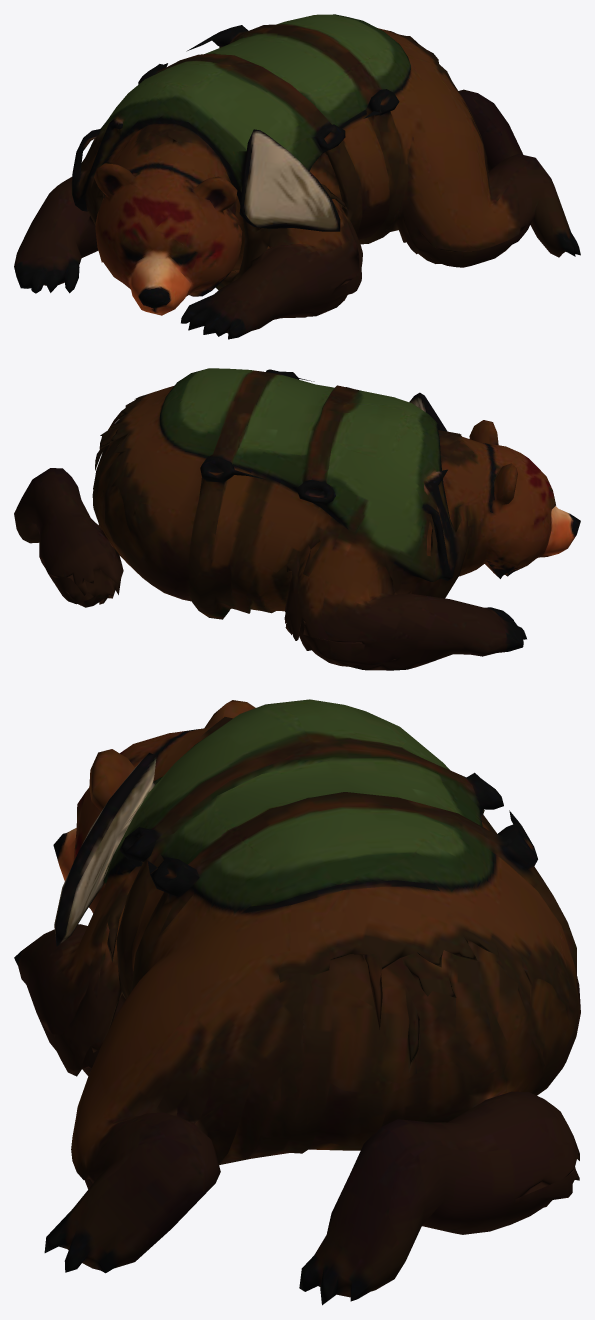
Rendered from war_bear_fallen.glb.
The picture shows the model from 3 angles, top to bottom: view 1: azimuth 30°, elevation 25°; view 2: azimuth 150°, elevation 25°; view 3: azimuth 270°, elevation 25°; orthographic projection. The views are drawn at different scales.
Visible parts, largest first — view 1: world; view 2: world; view 3: world.
Boxes of the visible parts, box(x1,y1,x2,y2) form: world: box(14, 14, 580, 339); world: box(14, 368, 580, 670); world: box(14, 699, 580, 1305).
Bounding box in the file's own units: 0.9941 × 0.3903 × 0.6004.
Materials: 1 (1 with a texture image).
